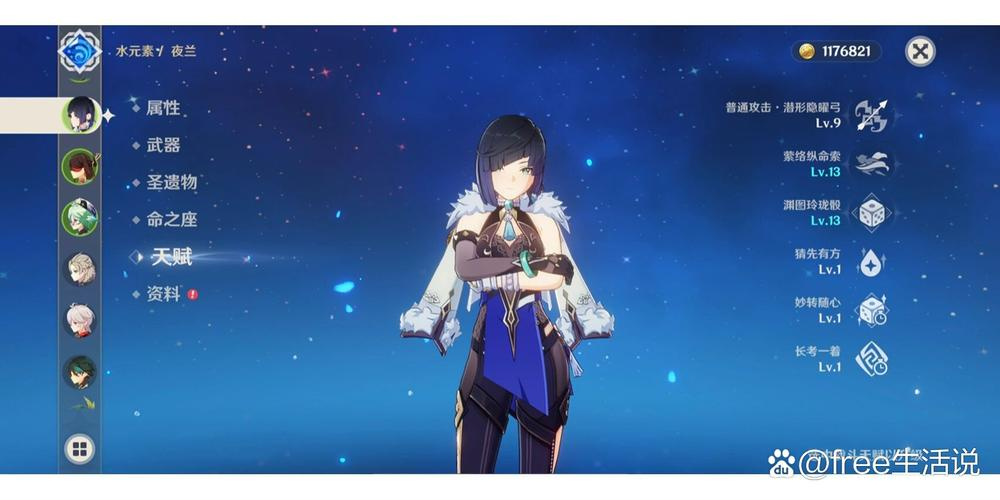夜兰: (452, 107, 581, 475)
